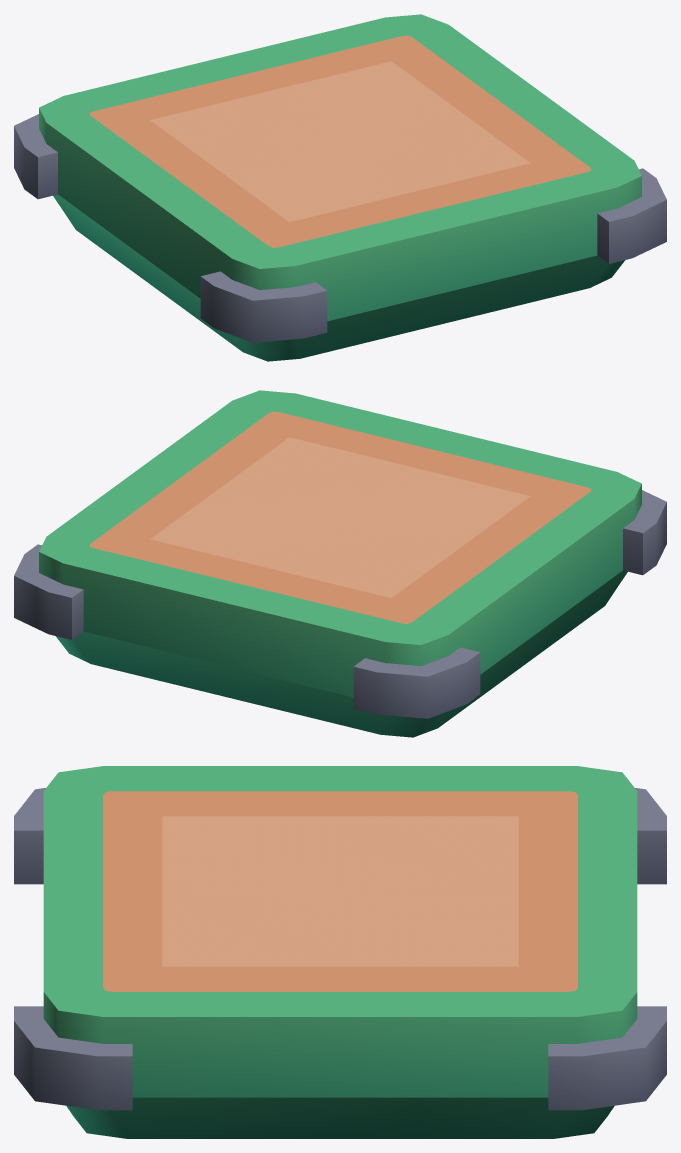
The model's file is platform.glb.
The picture shows the model from 3 angles, top to bottom: view 1: azimuth 30°, elevation 25°; view 2: azimuth 150°, elevation 25°; view 3: azimuth 270°, elevation 25°; orthographic projection. The views are drawn at different scales.
Visible parts, largest first — view 1: platform-falling; view 2: platform-falling; view 3: platform-falling.
Boxes of the visible parts, x1=… form: platform-falling: x1=14, y1=14, x2=666, y2=361; platform-falling: x1=14, y1=390, x2=666, y2=737; platform-falling: x1=14, y1=766, x2=666, y2=1138.
Bounding box in the file's own units: 2.2 × 0.5 × 2.2.
Materials: 1 (1 with a texture image).
